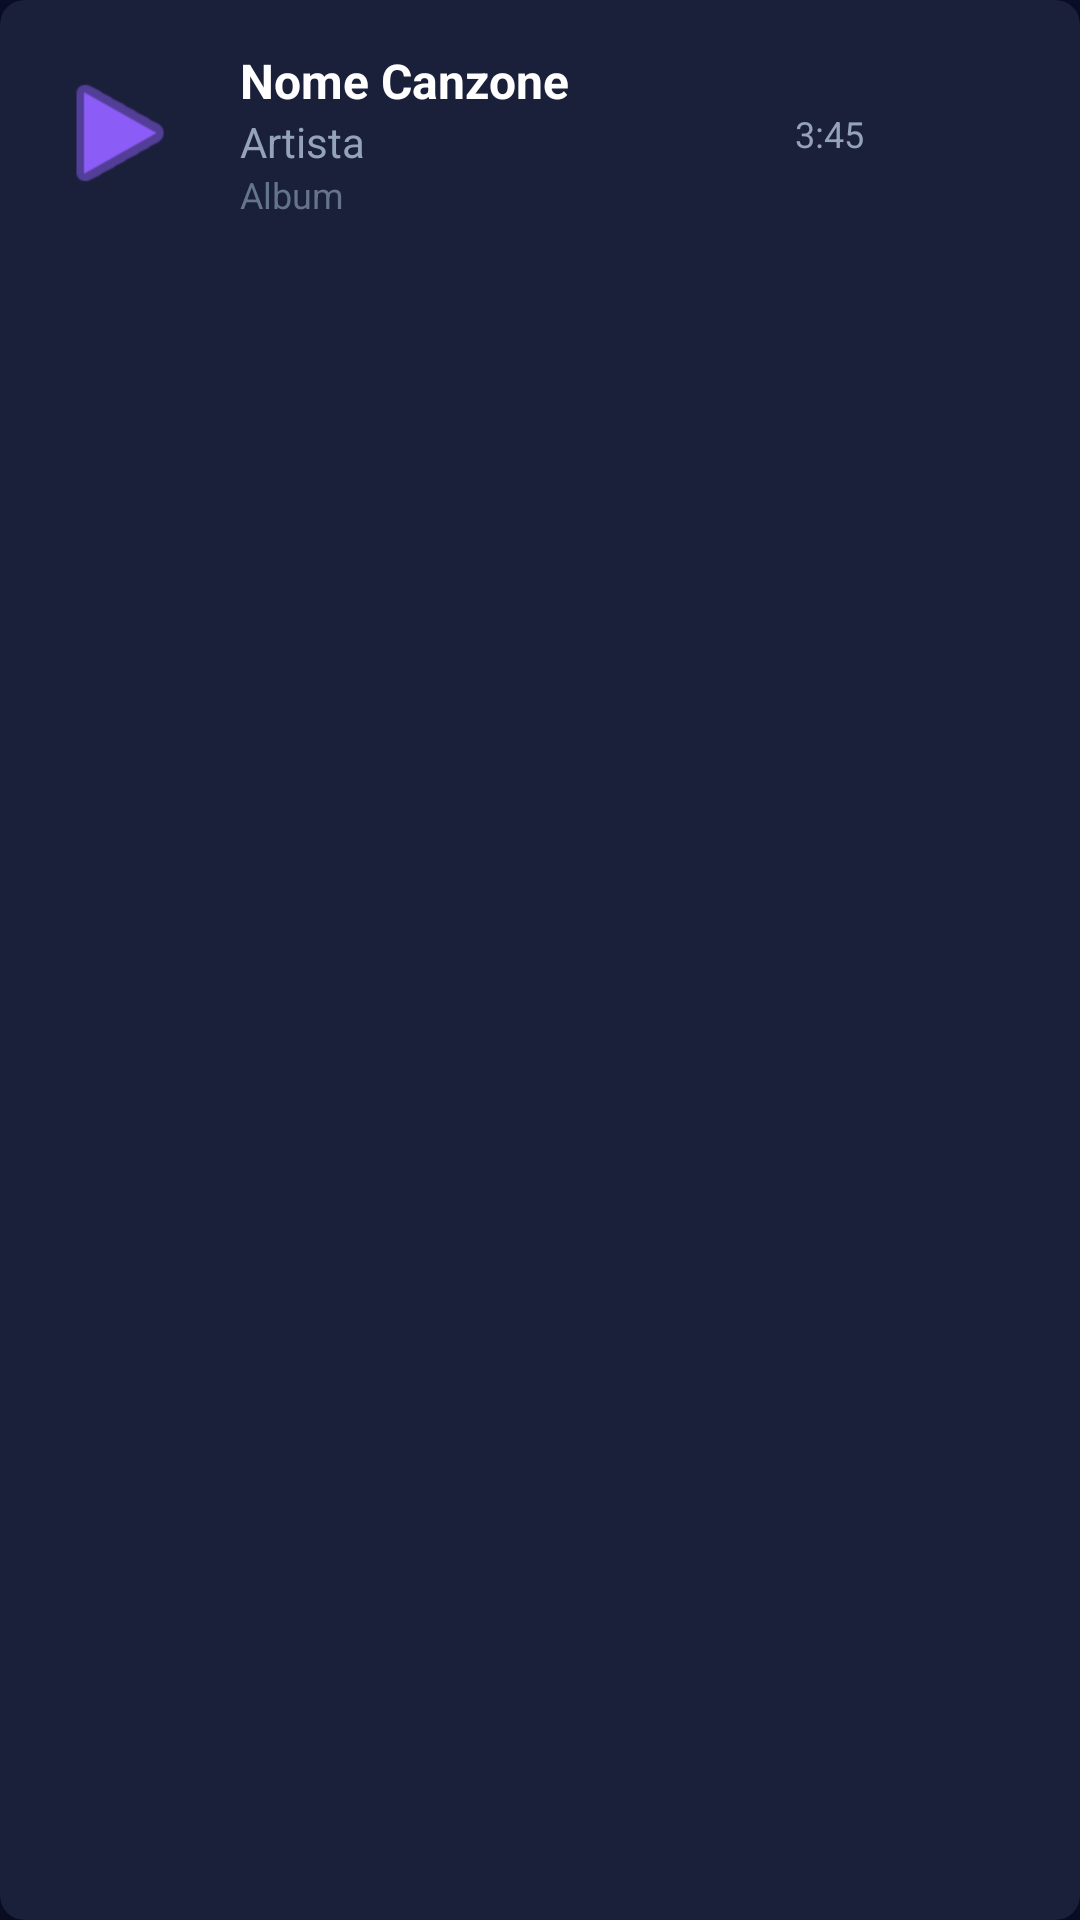

Named icons in this screenshot (1080px×1920px) and their bounding boxes, region(x1, y1, x2, y2):
play: region(76, 85, 164, 181)
